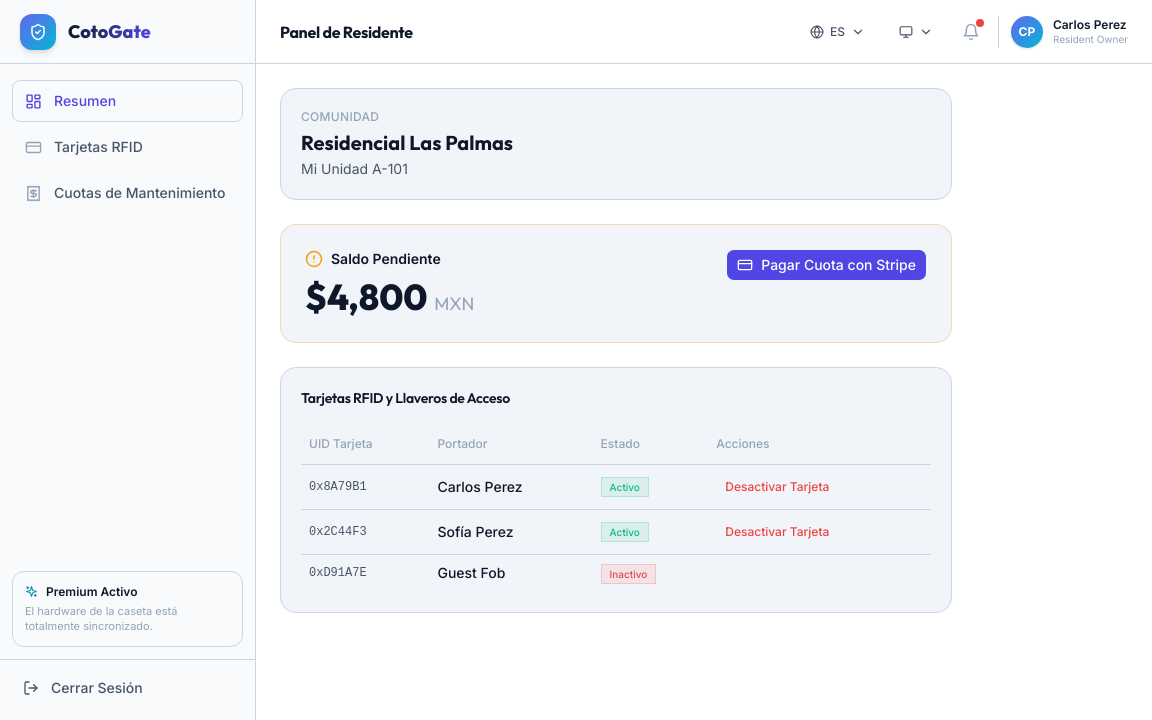
Test: ResidentPortal › navigates to Payments tab and shows payment history
This screenshot has width=1152, height=720.
Expected: the heading "Panel de Residente" is shown, [280,20,413,44]
Click the button with id "nav-payments".
click(128, 193)  # box [12,172,243,214]
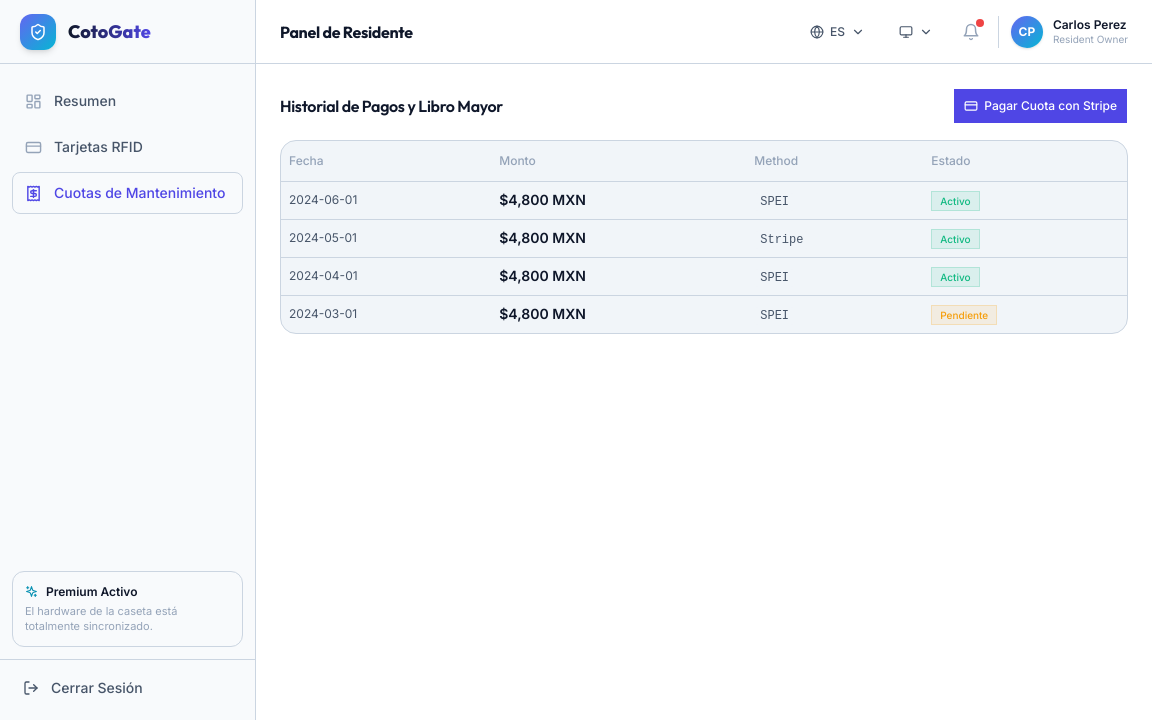
Now the heading "Historial de Pagos y Libro Mayor" is shown, box [280,94,503,118]
Now the text "$4,800 MXN" next to "2024-06-01" is shown, box [491,181,746,219]
Now the text "SPEI" in the row of "2024-06-01" is shown, box [760,195,789,209]
